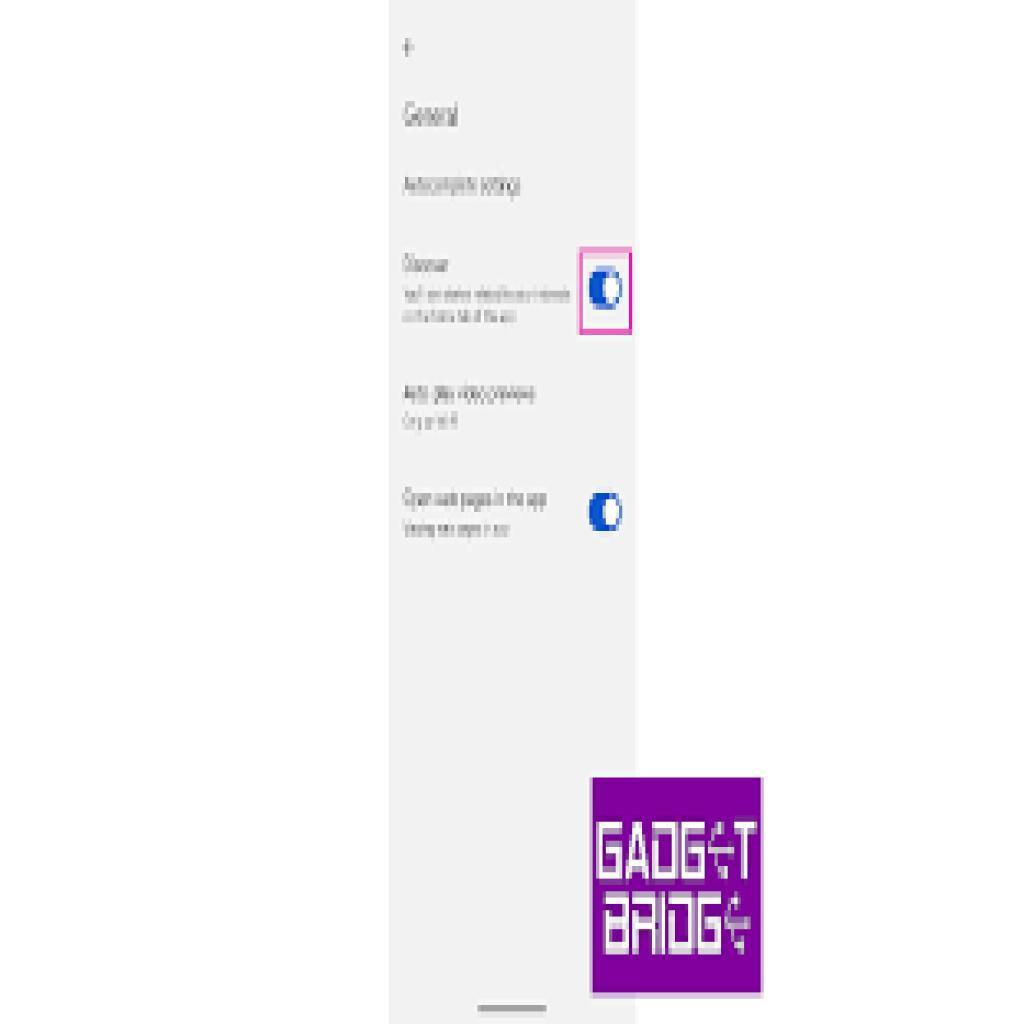switch: (590, 267, 626, 312), (589, 493, 624, 534)
